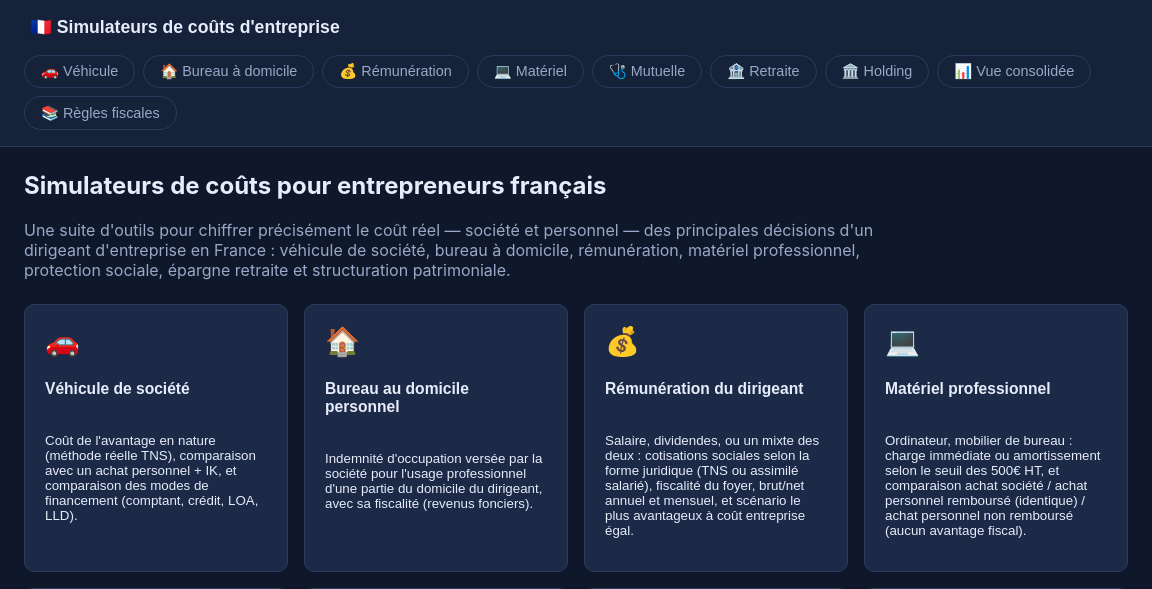
App — navigation & routage par URL › cliquer sur un lien de navigation affiche le simulateur correspondant et met à jour l'URL
Click the button "🏛️ Holding".
click(877, 72)  # box left=825, top=55, right=929, bottom=88
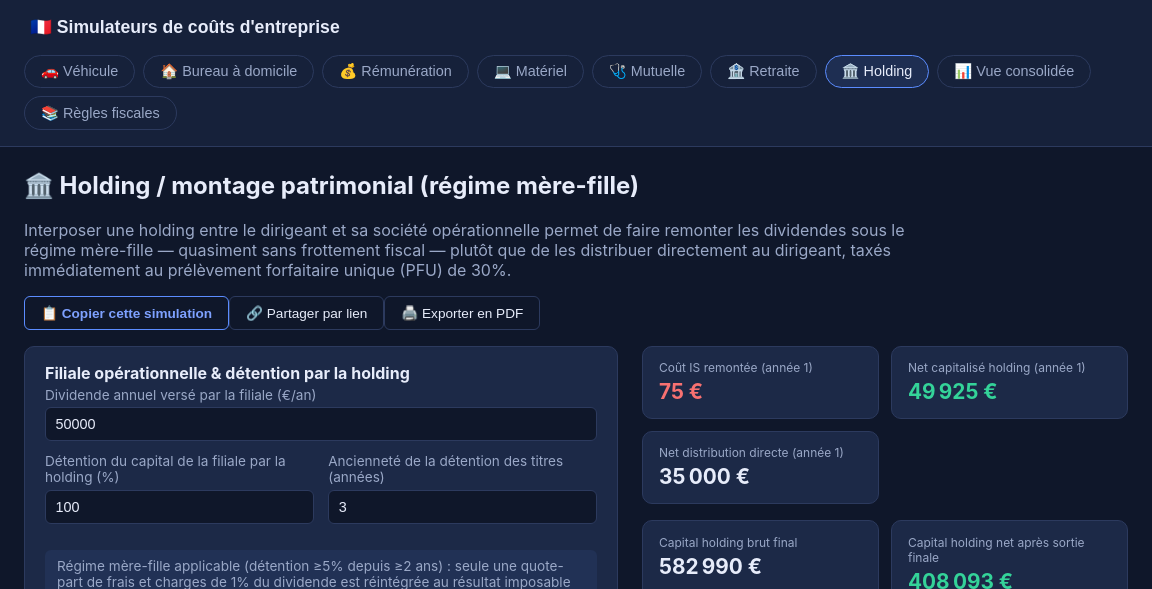
Expected: the heading "🏛️ Holding / montage patrimonial (régime mère-fille)" is shown, left=24, top=171, right=639, bottom=200
